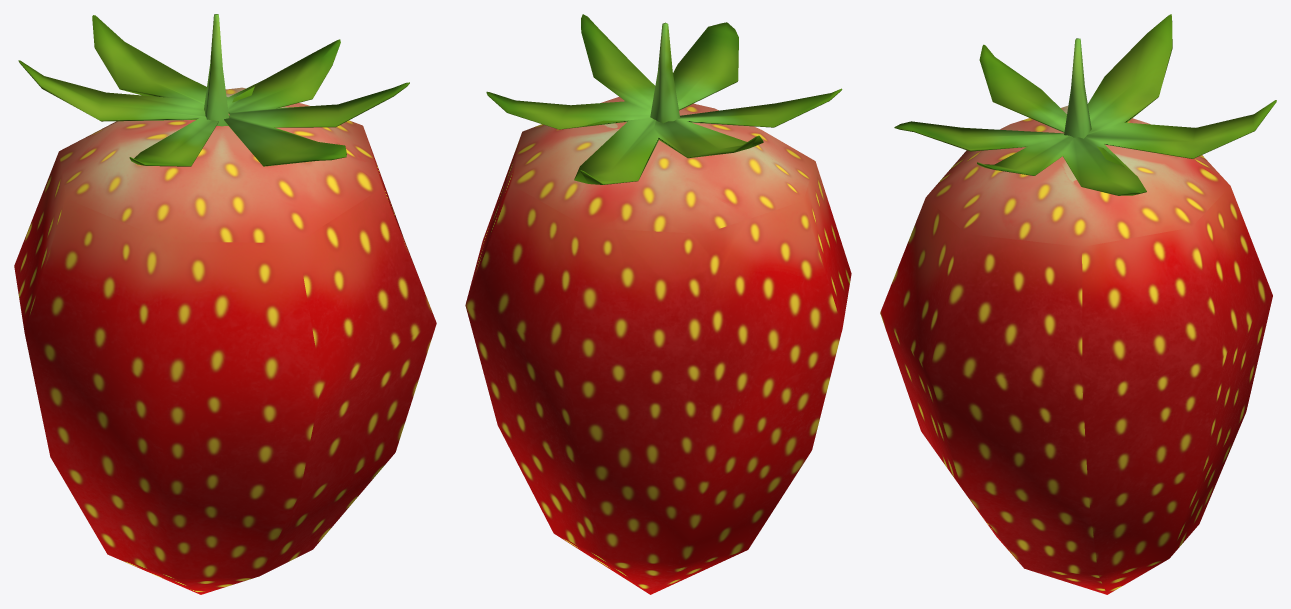
Rendered from Strawberry_LOD2.fbx.
The picture shows the model from 3 angles, left to right: view 1: azimuth 30°, elevation 25°; view 2: azimuth 150°, elevation 25°; view 3: azimuth 270°, elevation 25°; orthographic projection. The views are drawn at different scales.
Visible parts, largest first — view 1: Strawberry_LOD2; view 2: Strawberry_LOD2; view 3: Strawberry_LOD2.
Boxes of the visible parts, bbox=[...] form: Strawberry_LOD2: bbox=[14, 14, 436, 594]; Strawberry_LOD2: bbox=[465, 14, 851, 594]; Strawberry_LOD2: bbox=[880, 14, 1276, 594].
Size of the model in its own units: 0.03 by 0.0289 by 0.0446.
